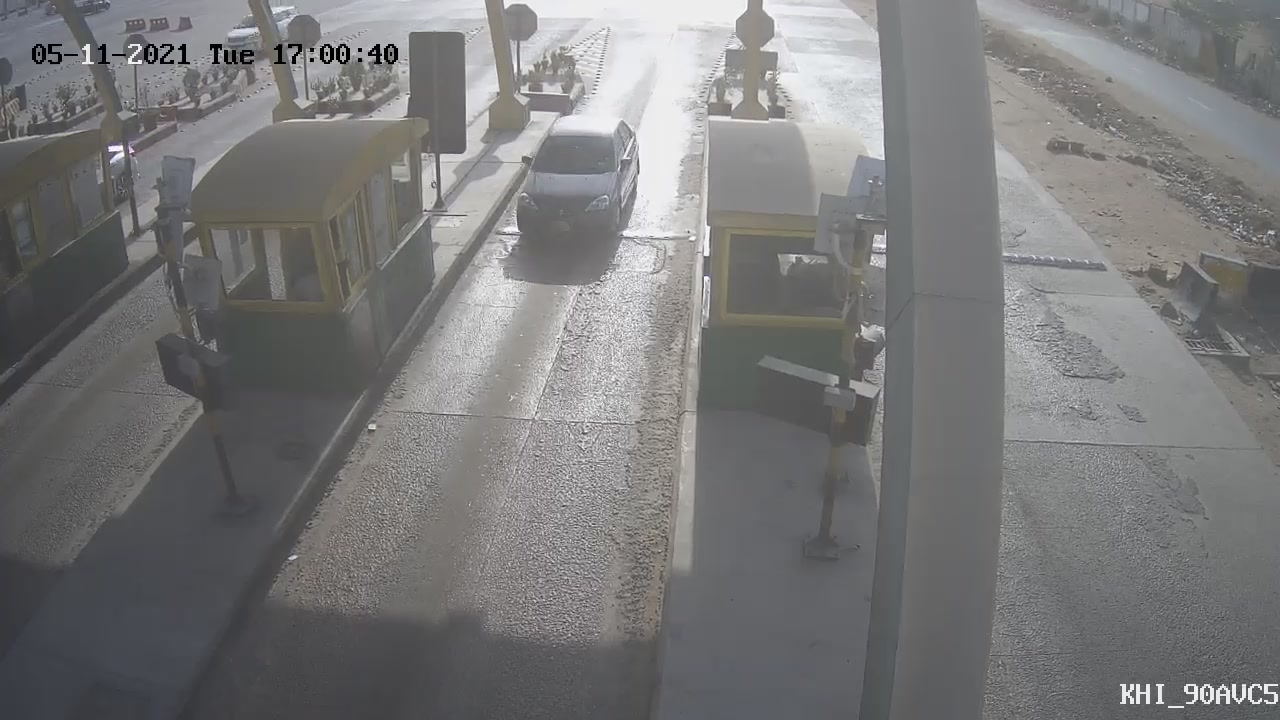F1: (491, 98, 656, 269)
